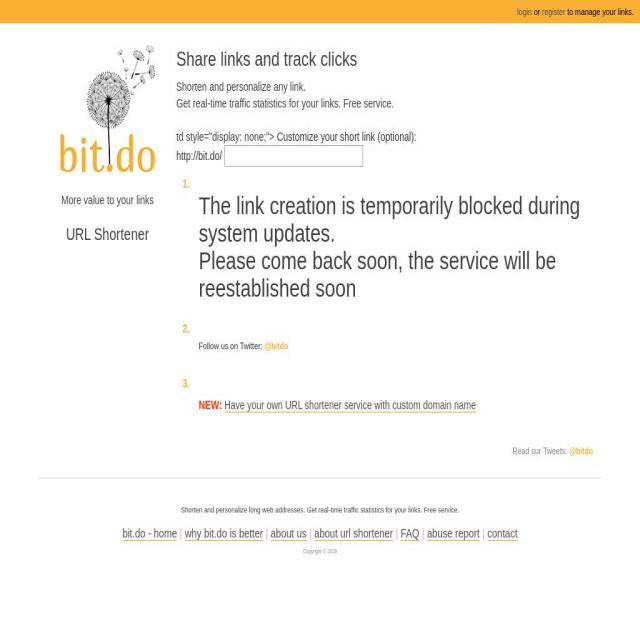field: (171, 125, 430, 173)
login-option: (514, 5, 536, 20)
navigation-links: (110, 518, 531, 562)
sign-up-option: (542, 1, 568, 22)
